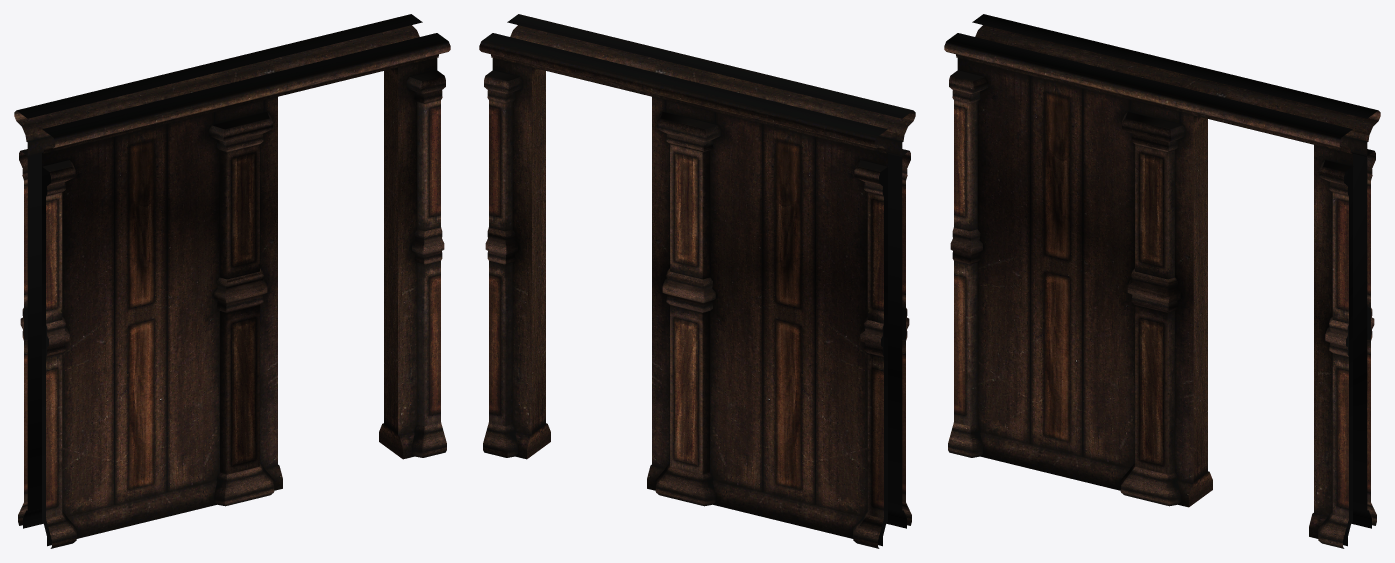
The model's file is secret_door02_frame.DAE.
3 views of the same model, side by side, from view 1: azimuth 30°, elevation 25°; view 2: azimuth 150°, elevation 25°; view 3: azimuth 330°, elevation 25° (orthographic).
Parts seen in each view (by area): view 1: Box002; view 2: Box002; view 3: Box002.
Part boxes in pixels (x1,y1,x2,y2): Box002: (14, 14, 450, 548); Box002: (479, 14, 915, 548); Box002: (944, 14, 1380, 548).
Size of the model in its own units: 4 by 0.7181 by 4.
